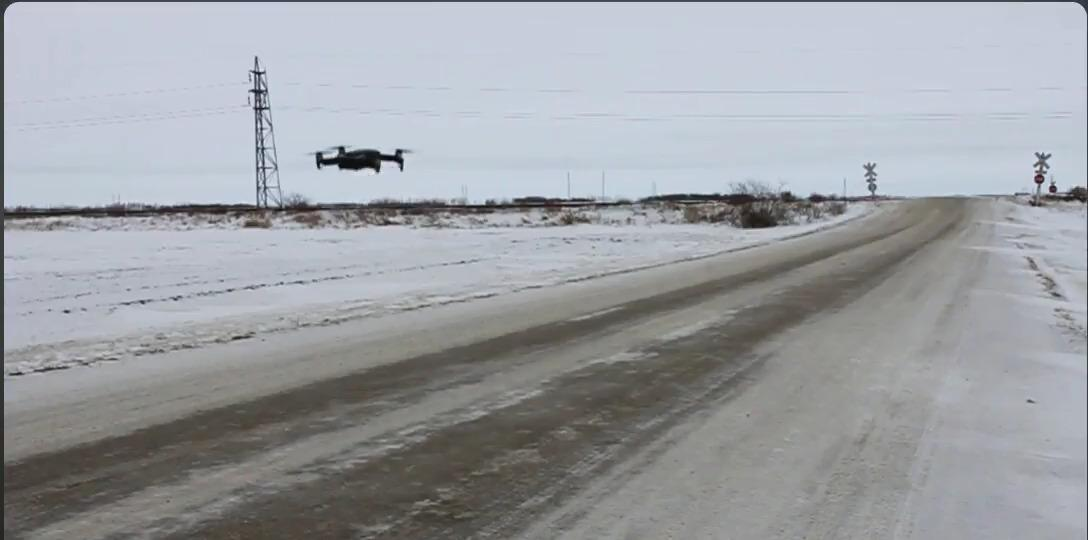dr: (307, 142, 414, 174)
